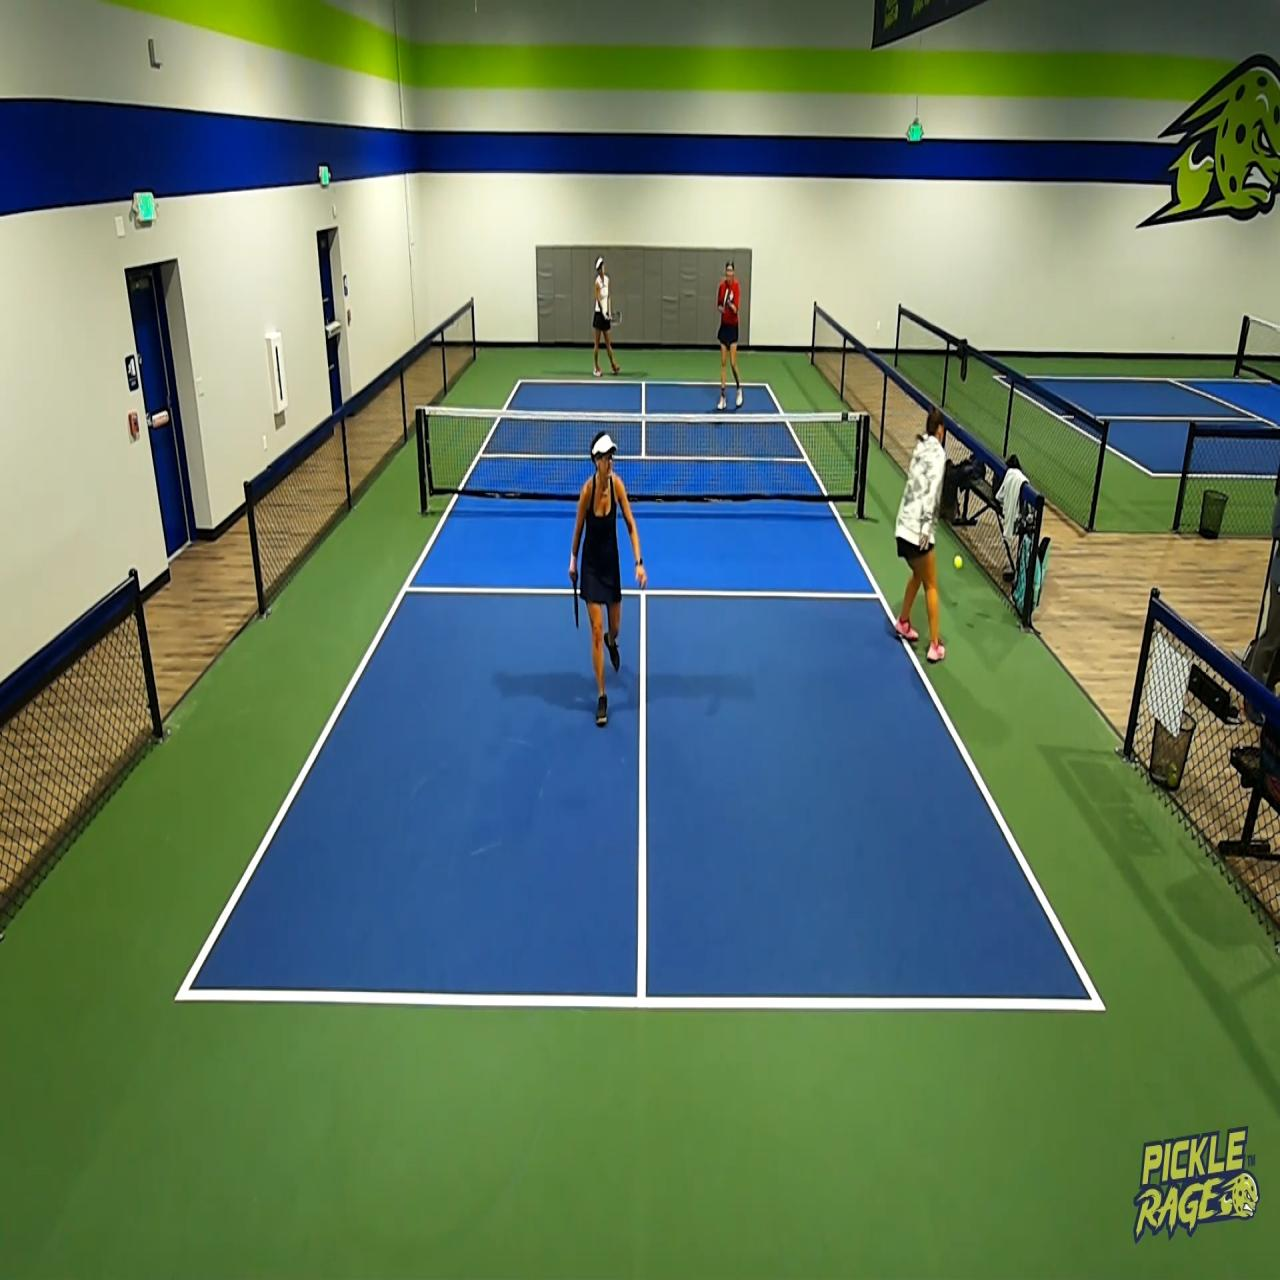Pickleball: (952, 551, 964, 573)
